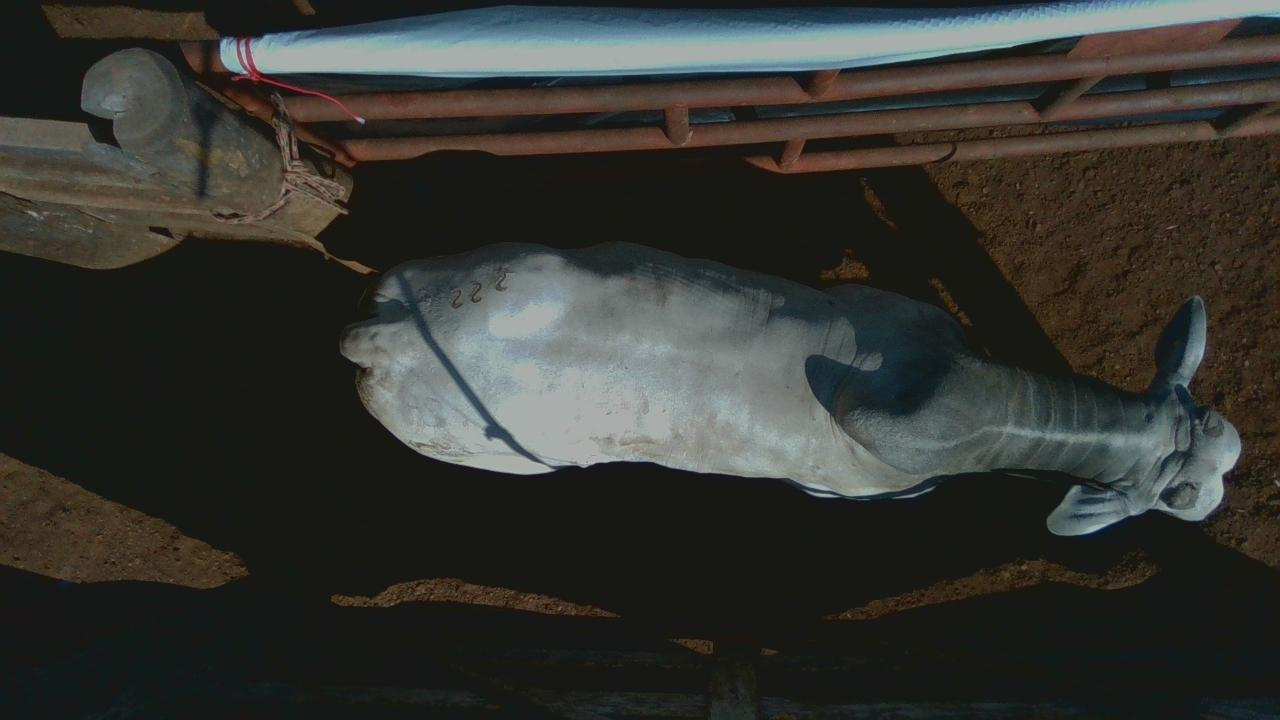cattle: (338, 238, 1242, 537)
